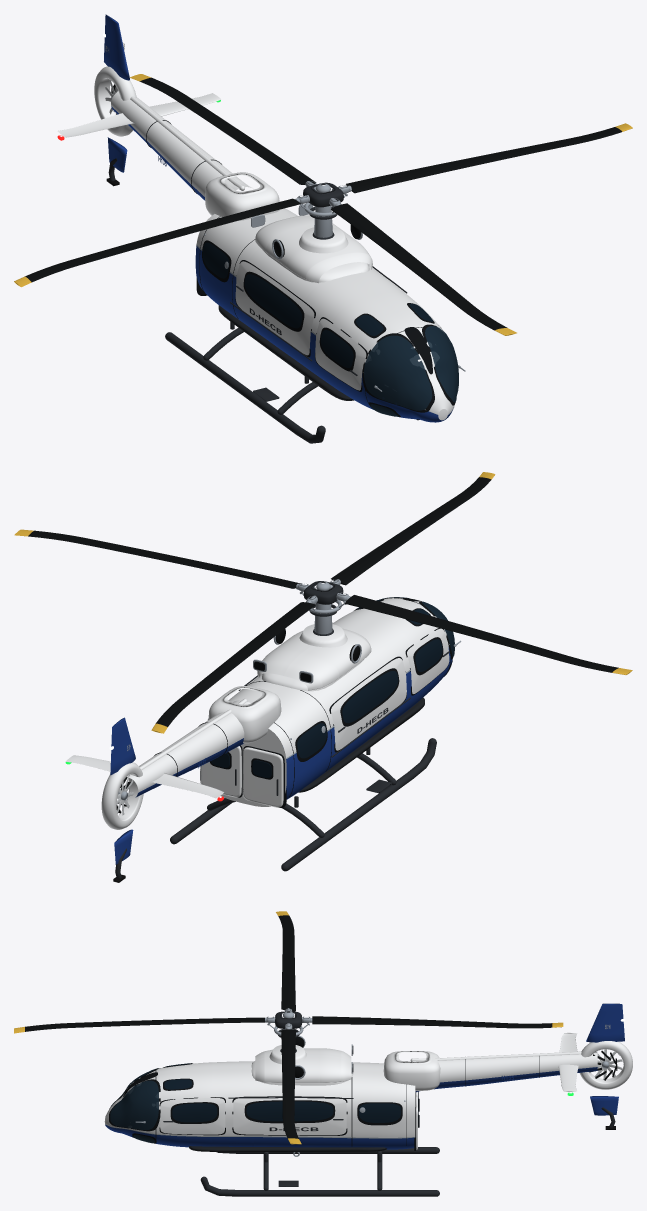
3 renders of one model, top to bottom at view 1: azimuth 30°, elevation 25°; view 2: azimuth 150°, elevation 25°; view 3: azimuth 270°, elevation 25°, orthographic. The views are drawn at different scales.
Visible parts, largest first — view 1: Fuselage_cabine, Poutre_de_queue, sliding_door_lh, windshield_lh, Pale_4, Pale_1, engine_lh, Pale_3, cockpit_door_lh, Pale_2, boom_root_fairing, Skid_tube_lh (+10 smaller); view 2: Fuselage_cabine, sliding_door_lh, Poutre_de_queue, Pale_3, engine_lh, clamshell_door_lh, Pale_2, Pale_4, Pale_1, boom_root_fairing, cockpit_door_lh, Skid_tube_lh (+11 smaller); view 3: Fuselage_cabine, sliding_door_rh, Poutre_de_queue, cockpit_door_rh, windshield_rh, engine_rh, Skid_tube_rh, Pale_2, boom_root_fairing, Derive_verticale, Pale_1, Fenestron_duct (+8 smaller).
Part boxes in pixels (x1,y1,x2,y2): Fuselage_cabine: [195, 208, 454, 422]; Poutre_de_queue: [111, 91, 251, 200]; sliding_door_lh: [230, 260, 315, 361]; windshield_lh: [362, 333, 434, 412]; Pale_4: [331, 203, 516, 335]; Pale_1: [346, 123, 632, 193]; engine_lh: [255, 218, 344, 283]; Pale_3: [14, 198, 300, 287]; cockpit_door_lh: [315, 317, 367, 391]; Pale_2: [130, 74, 316, 184]; boom_root_fairing: [205, 172, 279, 220]; Skid_tube_lh: [165, 332, 325, 443]; Fuselage_cabine: [200, 597, 452, 806]; sliding_door_lh: [329, 656, 410, 757]; Poutre_de_queue: [127, 698, 250, 797]; Pale_3: [345, 595, 632, 674]; engine_lh: [284, 628, 371, 690]; clamshell_door_lh: [242, 746, 284, 807]; Pale_2: [151, 602, 315, 733]; Pale_4: [331, 472, 495, 585]; Pale_1: [14, 529, 301, 588]; boom_root_fairing: [208, 686, 281, 743]; cockpit_door_lh: [405, 628, 449, 695]; Skid_tube_lh: [281, 738, 436, 871]; Fuselage_cabine: [104, 1061, 415, 1149]; sliding_door_rh: [228, 1096, 353, 1135]; Poutre_de_queue: [410, 1051, 597, 1092]; cockpit_door_rh: [159, 1097, 225, 1135]; windshield_rh: [109, 1079, 160, 1131]; engine_rh: [255, 1055, 351, 1082]; Skid_tube_rh: [200, 1176, 439, 1196]; Pale_2: [312, 1016, 563, 1028]; boom_root_fairing: [383, 1051, 440, 1090]; Derive_verticale: [586, 1003, 624, 1115]; Pale_1: [281, 1029, 301, 1144]; Fenestron_duct: [579, 1041, 632, 1089].
Size of what is drawn, in the model's own units: 10.4 by 3.57 by 11.72.
Materials: 27 (6 with a texture image).
